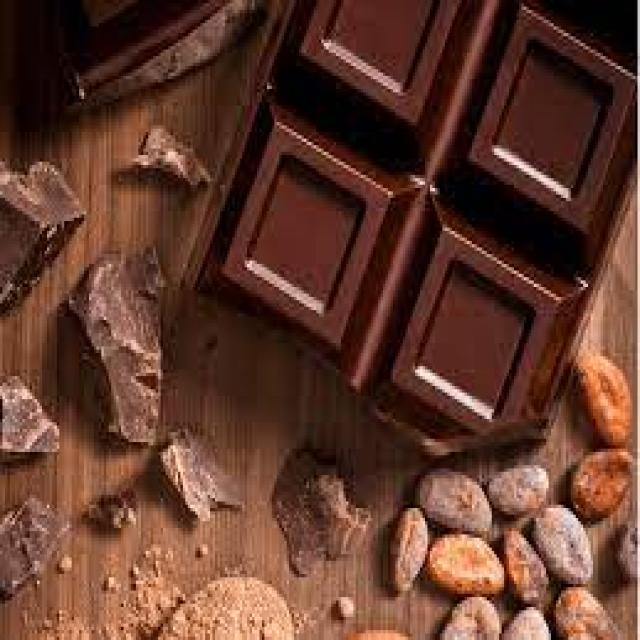Chocolate: (182, 0, 640, 456), (40, 0, 276, 119)
